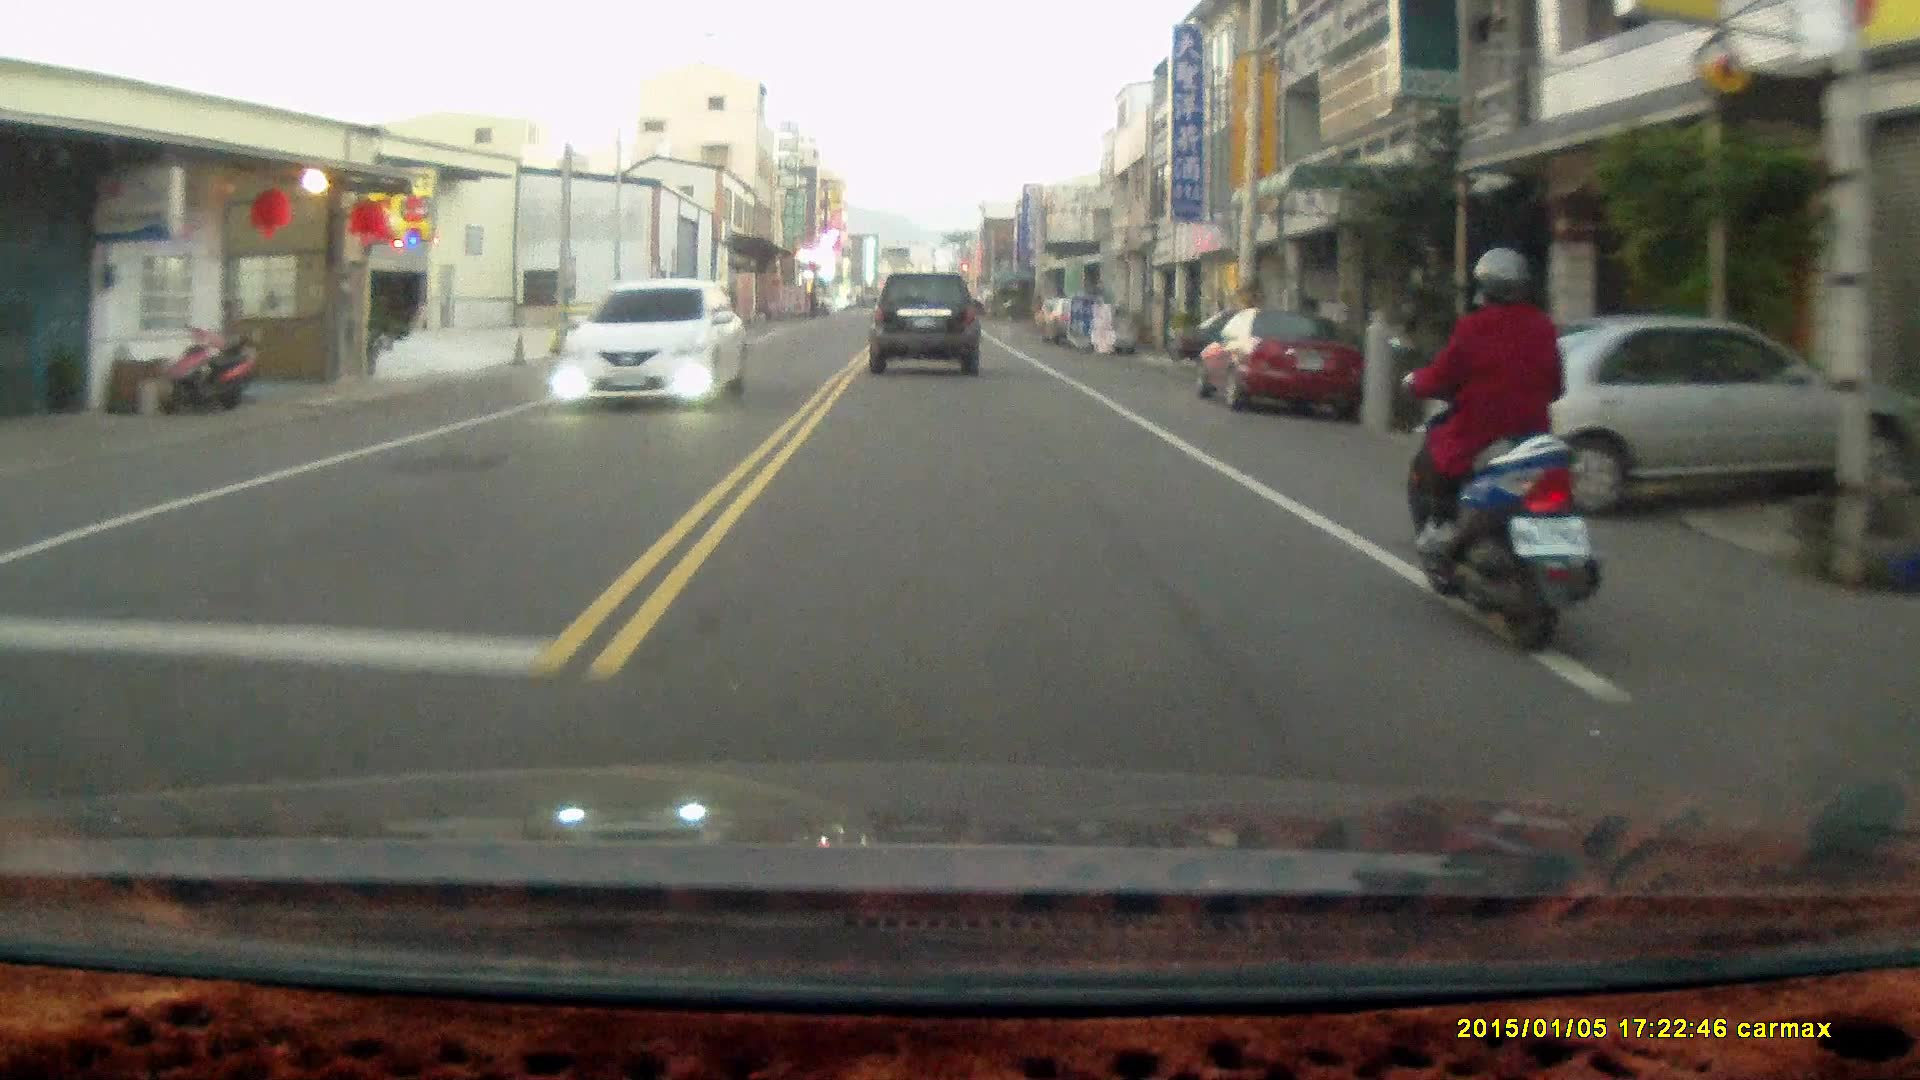rider: (1387, 241, 1601, 654)
vehicle: (1421, 316, 1882, 527), (562, 281, 750, 409), (1195, 304, 1365, 415), (870, 269, 984, 377), (658, 277, 734, 335)
